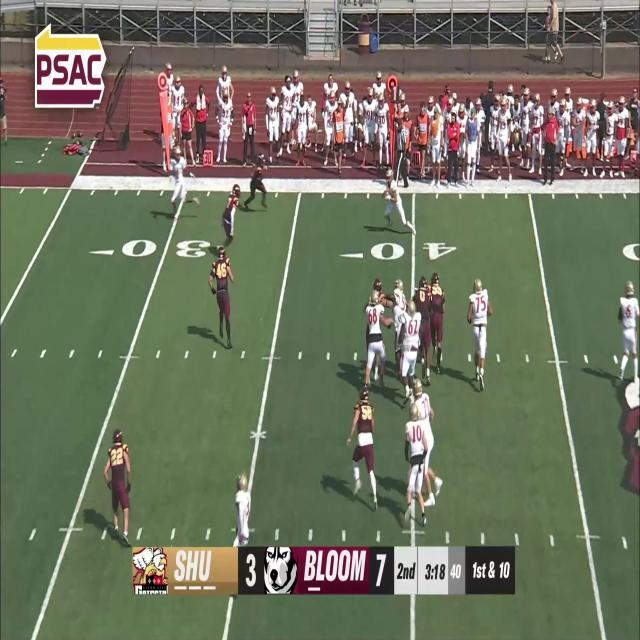football: (383, 190, 390, 200)
